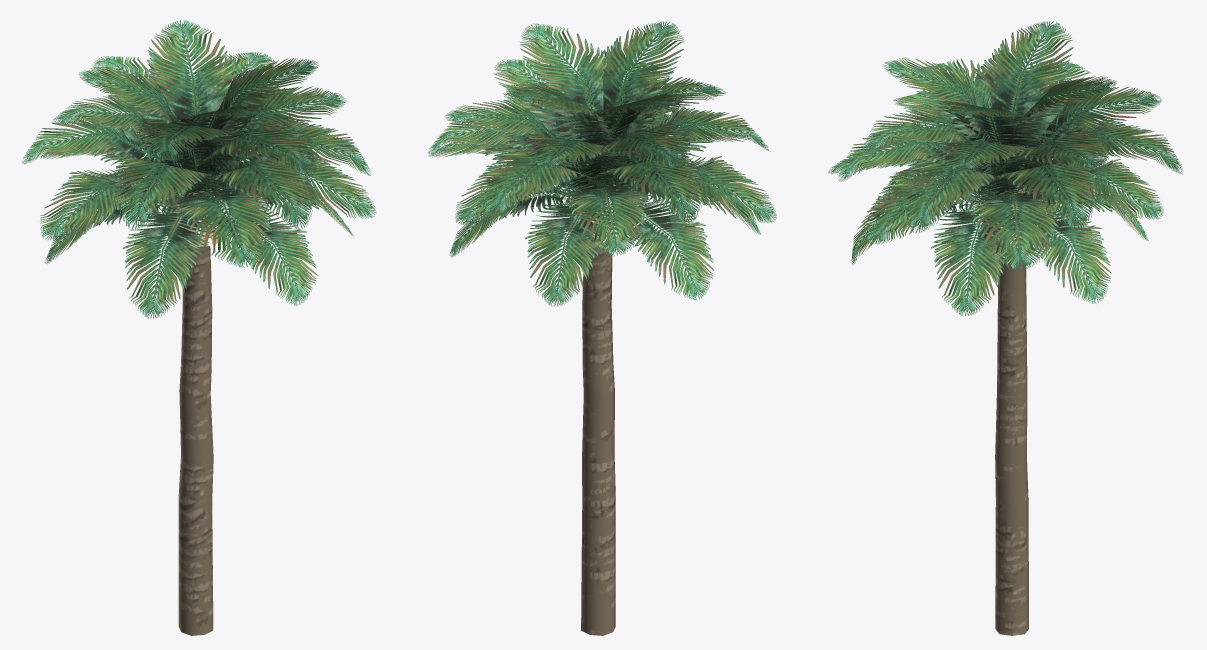
File: PalmTree.fbx
3 renders of one model, left to right at view 1: azimuth 30°, elevation 25°; view 2: azimuth 150°, elevation 25°; view 3: azimuth 270°, elevation 25°, orthographic.
Parts seen in each view (by area): view 1: pCube122; view 2: pCube122; view 3: pCube122.
Part boxes in pixels (x1,y1,x2,y2): pCube122: [21, 20, 376, 635]; pCube122: [427, 21, 776, 635]; pCube122: [828, 21, 1182, 635].
Bounding box in the file's own units: 1136 × 1773 × 1076.
